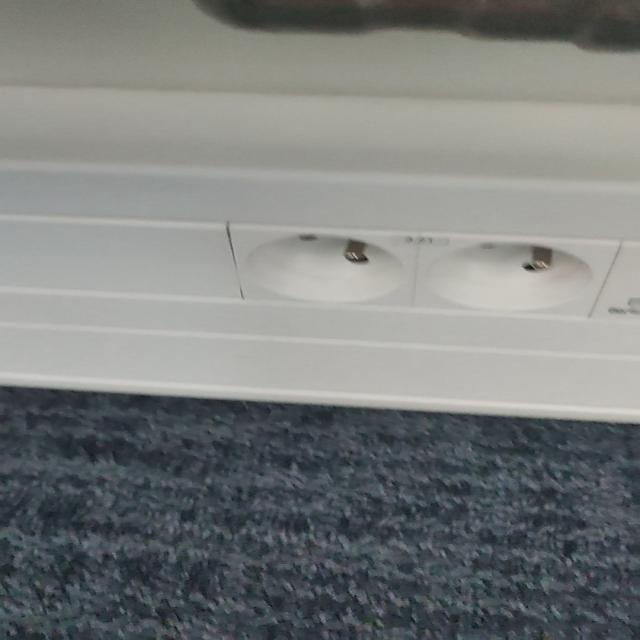house plug: (412, 231, 625, 318), (230, 223, 422, 308)
